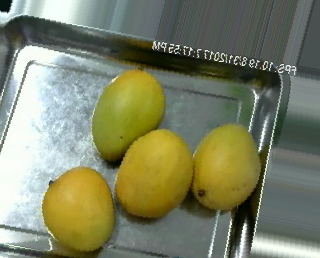Mango: (113, 131, 194, 216), (94, 66, 166, 159), (192, 124, 263, 208), (44, 166, 114, 251)
